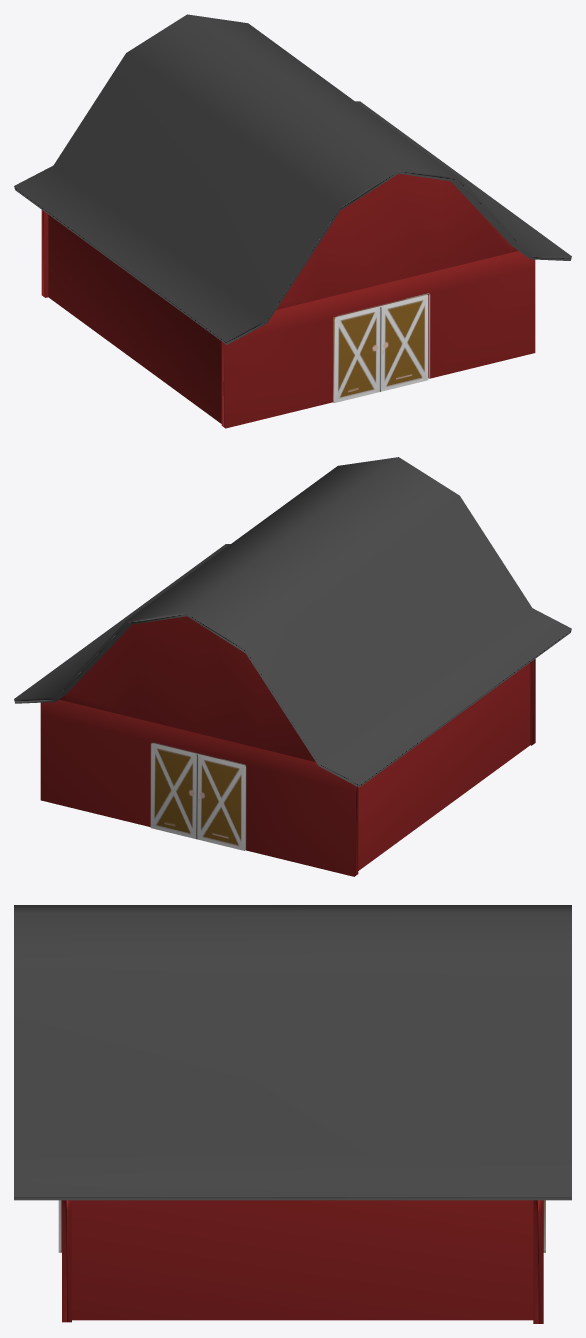
Rendered from ARC0710041.fbx.
3 views of the same model, one above another, from view 1: azimuth 30°, elevation 25°; view 2: azimuth 150°, elevation 25°; view 3: azimuth 270°, elevation 25° (orthographic). The views are drawn at different scales.
Visible parts, largest first — view 1: smARC0710041; view 2: smARC0710041; view 3: smARC0710041.
Part boxes in pixels (left/top/right/bottom): smARC0710041: left=14, top=14, right=571, bottom=428; smARC0710041: left=14, top=457, right=571, bottom=876; smARC0710041: left=14, top=905, right=571, bottom=1323.
Size of the model in its own units: 1034 by 669 by 1094.
Materials: 1 (1 with a texture image).
